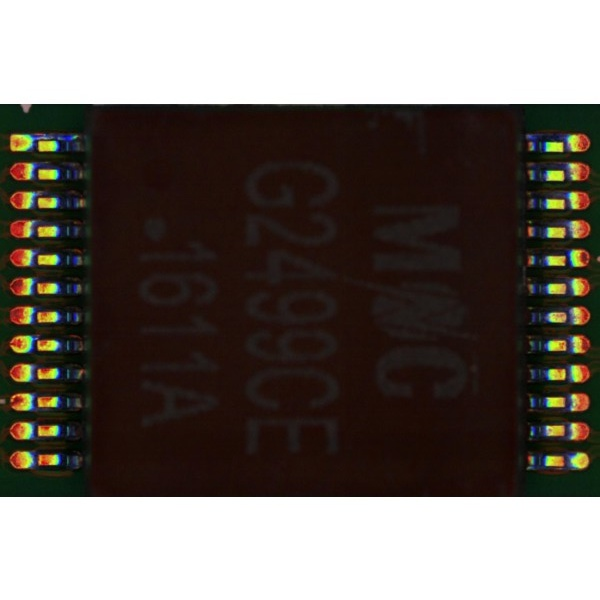Bad_qiaojiao: (32, 133, 78, 139)
